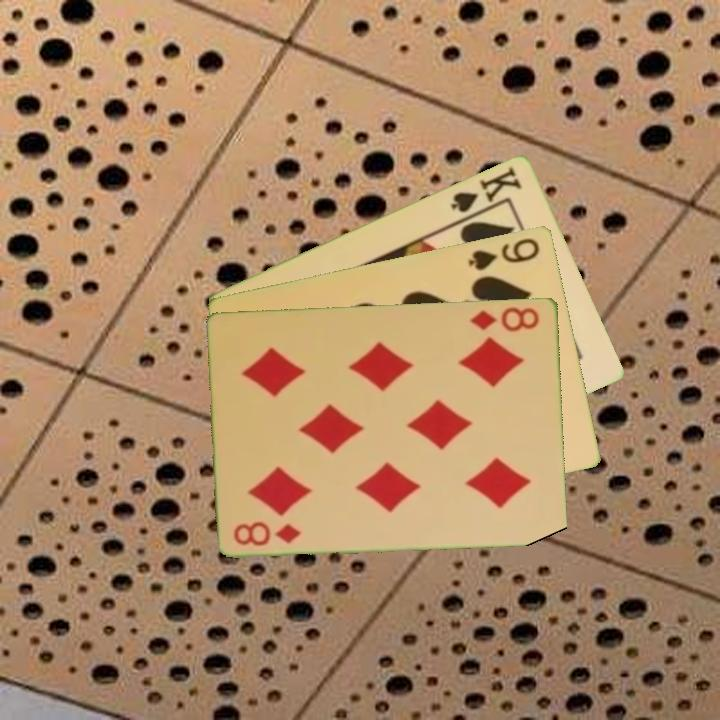8d: (467, 303, 542, 334), (231, 518, 304, 549)
9s: (465, 234, 543, 273)
Ks: (447, 162, 525, 222)
